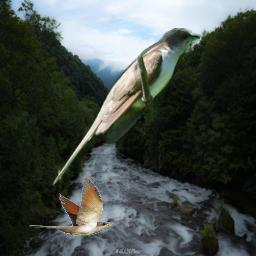Cuckoo: (50, 28, 200, 188), (29, 177, 113, 236)
